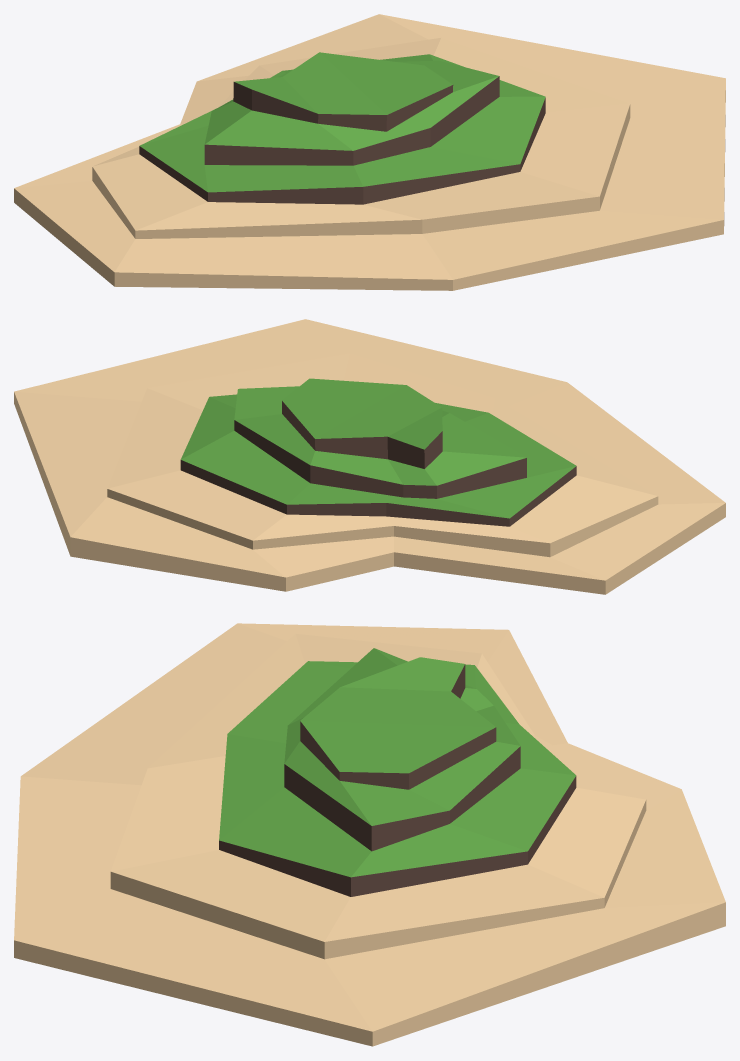
3 views of the same model, one above another, from view 1: azimuth 30°, elevation 25°; view 2: azimuth 150°, elevation 25°; view 3: azimuth 270°, elevation 25° (orthographic). The views are drawn at different scales.
Visible parts, largest first — view 1: ILE; view 2: ILE; view 3: ILE.
Part boxes in pixels (x1,y1,x2,y2): ILE: [14, 14, 725, 290]; ILE: [14, 319, 725, 594]; ILE: [14, 623, 725, 1046].
Bounding box in the file's own units: 1637 × 228 × 1240.
